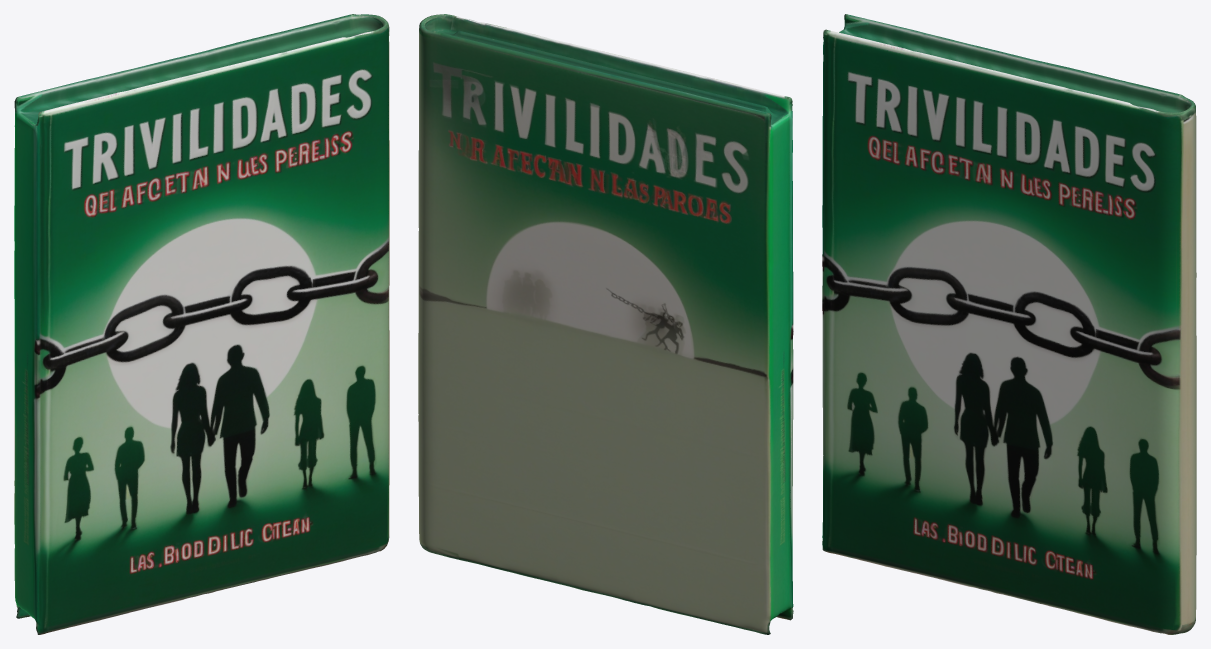
The model's file is Trivilidades_que_Afec_0913001515.glb.
3 renders of one model, left to right at view 1: azimuth 30°, elevation 25°; view 2: azimuth 150°, elevation 25°; view 3: azimuth 330°, elevation 25°, orthographic.
Size of the model in its own units: 1.44 by 2 by 0.1678.
1 material, 1 textured.
